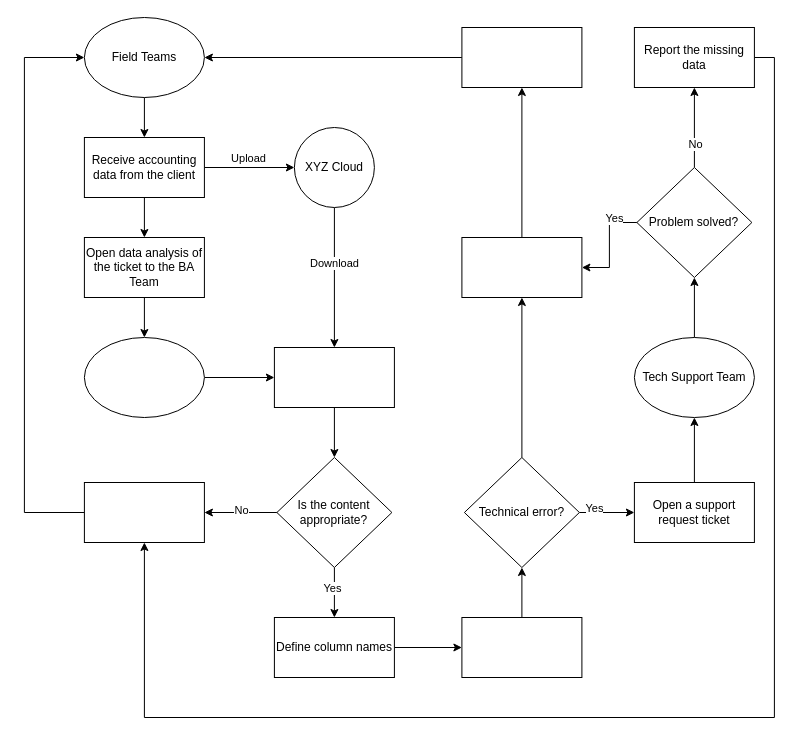
Image size: 800x743. Some labels were removed from this diagram. Each missing label, with the centre of its shape:
"Analyze results successfully uploaded" goes at point (521, 267).
"BA Team" goes at point (143, 377).
"Download the data" goes at point (333, 377).
"Request correct data" goes at point (143, 512).
"Share report" goes at point (521, 57).
"Upload to the Transformers system" goes at point (521, 647).
